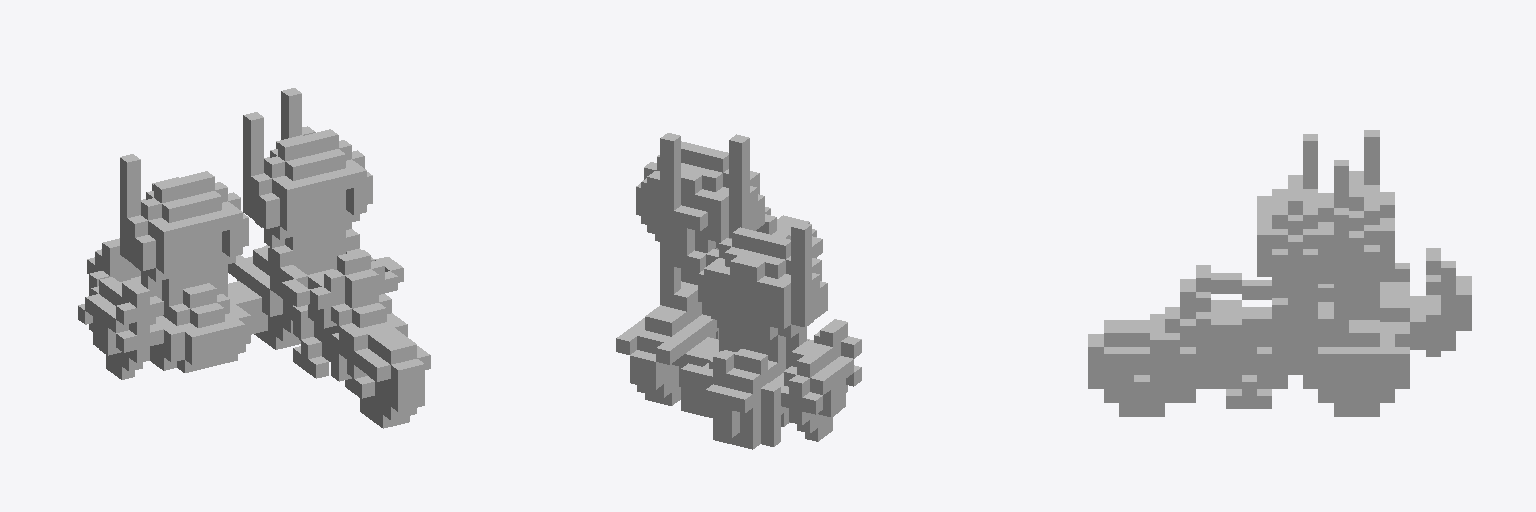
Rendered from mobile_infantry.obj.
3 renders of one model, left to right at view 1: azimuth 30°, elevation 25°; view 2: azimuth 150°, elevation 25°; view 3: azimuth 270°, elevation 25°, orthographic.
Visible parts, largest first — view 1: object 1; view 2: object 1; view 3: object 1.
Part boxes in pixels (x1,y1,x2,y2): object 1: (78, 88, 430, 428); object 1: (616, 133, 861, 449); object 1: (1088, 130, 1471, 416).
Size of the model in its own units: 1.7 by 1.8 by 2.5.